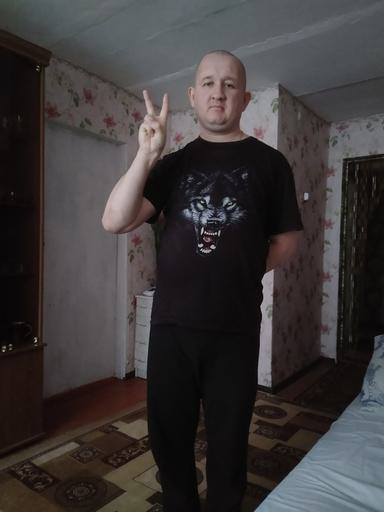peace: (136, 88, 171, 156)
